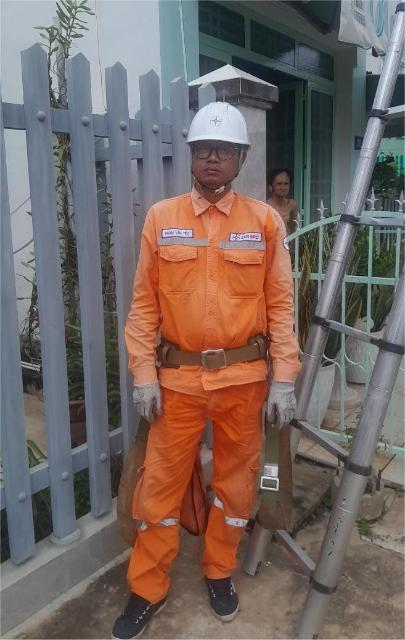gloves: (263, 373, 308, 435), (129, 372, 177, 429)
harness: (128, 326, 313, 374)
helmet: (185, 101, 254, 154)
shoes: (104, 570, 186, 639), (200, 565, 265, 628)
